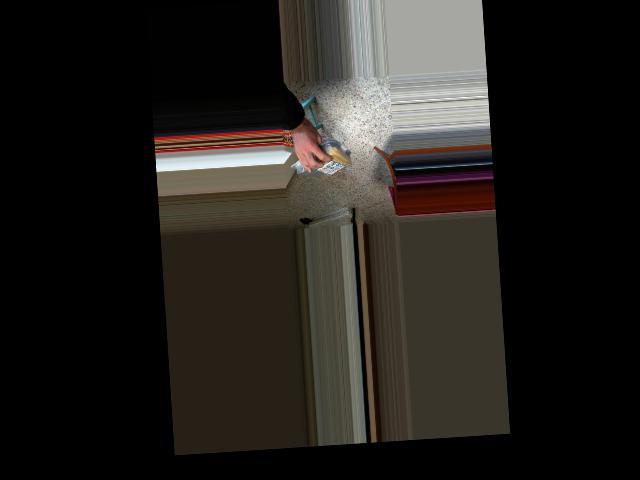cheese: (289, 144, 352, 178)
